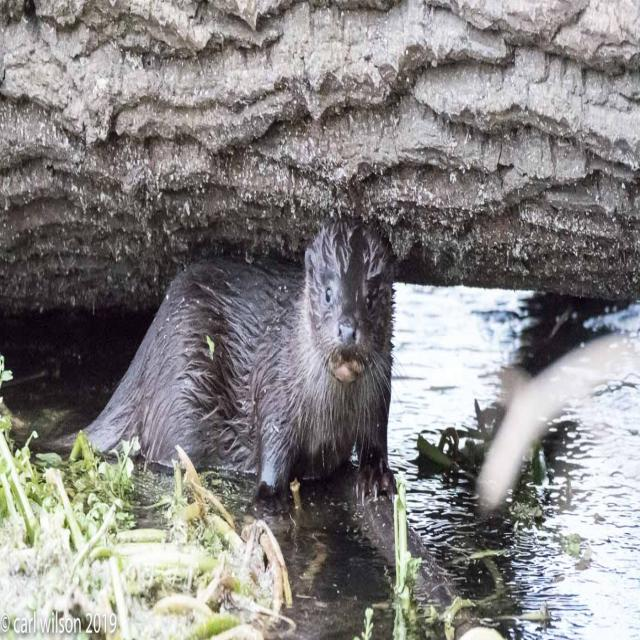otter: (104, 221, 394, 459)
